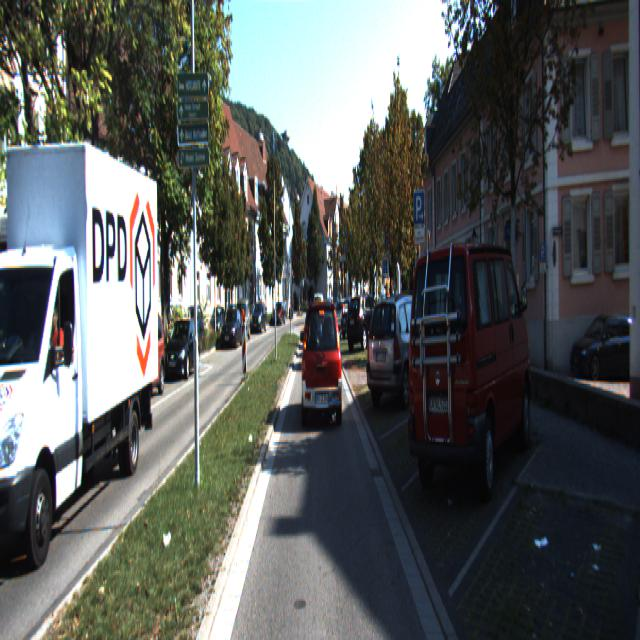Car: (0, 129, 162, 579), (406, 231, 535, 515), (11, 302, 118, 447), (366, 291, 444, 407), (108, 309, 168, 406), (302, 300, 343, 428), (569, 310, 639, 378), (69, 308, 115, 387), (162, 320, 201, 381), (346, 293, 386, 349), (338, 297, 366, 340), (221, 308, 244, 349), (234, 299, 252, 343), (251, 298, 267, 330), (272, 303, 288, 327)
